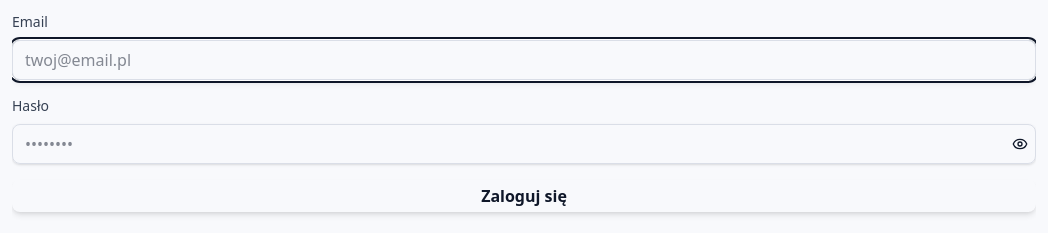
it: LoginForm › Form Submission › should show loading state during submission
In the field labelled "Email": coordinates (524, 60) [12,40,1036,80], type "test@example.com"
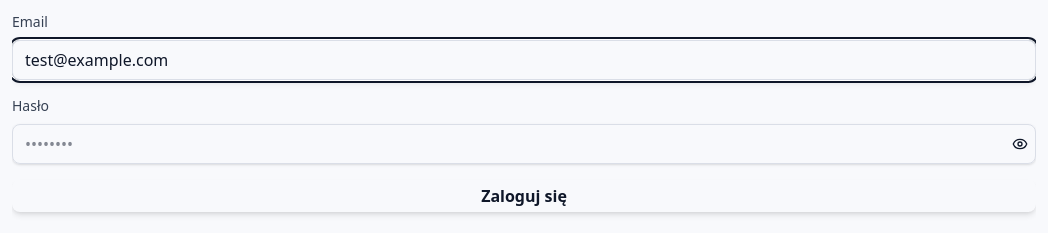
In the password field labelled "Hasło": coordinates (524, 144) [12,124,1036,164], type "password123"
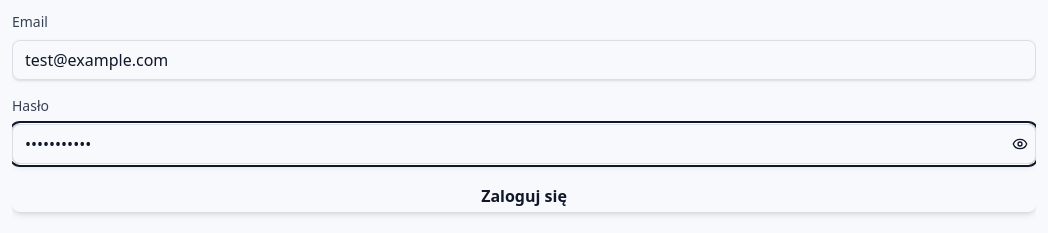
Click the button "Zaloguj się": coordinates (524, 196) [12,180,1036,212]
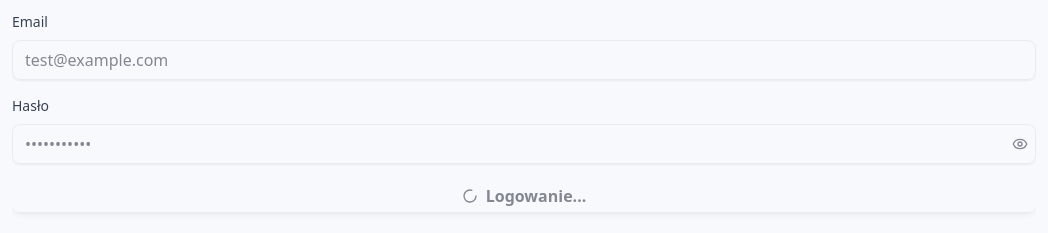
Check: the button with aria-label "Logowanie w toku..." is disabled, box [12,180,1036,212]
